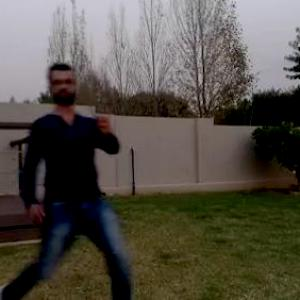takeoff-hand: (91, 102, 118, 138)
